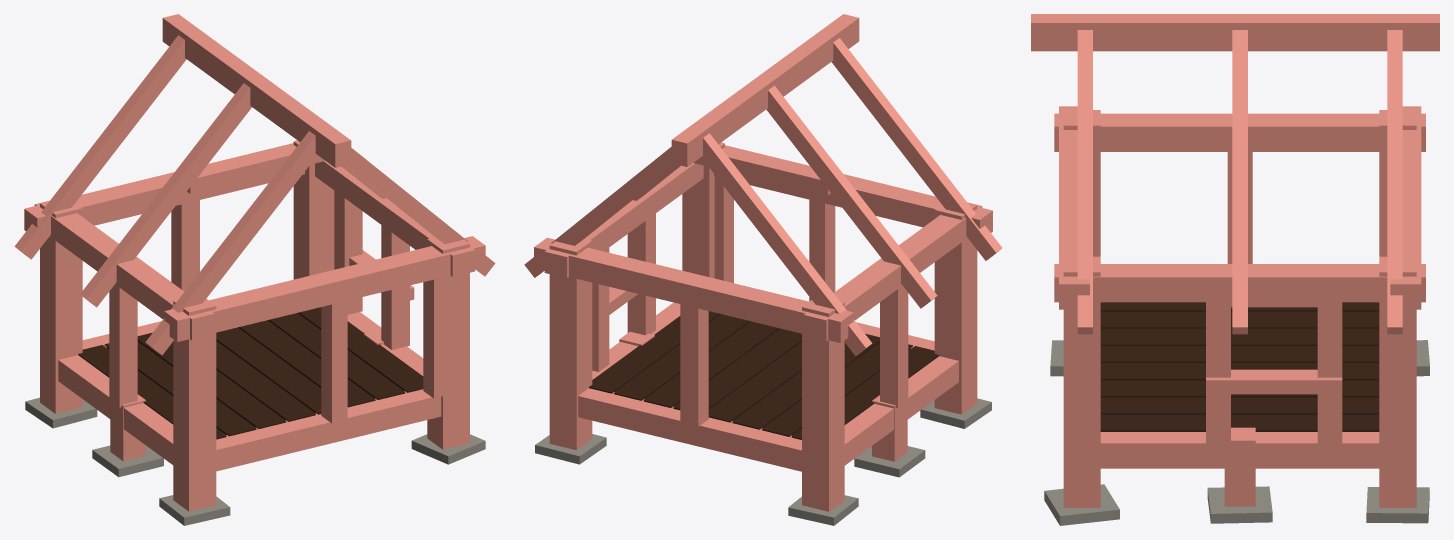
Rendered from frame.glb.
3 views of the same model, side by side, from view 1: azimuth 30°, elevation 25°; view 2: azimuth 150°, elevation 25°; view 3: azimuth 270°, elevation 25° (orthographic). The views are drawn at different scales.
Visible parts, largest first — view 1: timber_frame, stilts_sills, floor, stone_pads; view 2: timber_frame, stilts_sills, floor, stone_pads; view 3: timber_frame, floor, stilts_sills, stone_pads.
Boxes of the visible parts, x1,y1,x2,y2 form: timber_frame: [14, 14, 495, 455]; stilts_sills: [40, 312, 469, 511]; floor: [78, 307, 423, 439]; stone_pads: [25, 397, 485, 525]; timber_frame: [524, 14, 1002, 456]; stilts_sills: [549, 302, 977, 511]; floor: [589, 311, 939, 439]; stone_pads: [535, 398, 991, 525]; timber_frame: [1031, 14, 1439, 444]; floor: [1100, 302, 1379, 431]; stilts_sills: [1063, 427, 1416, 507]; stone_pads: [1044, 340, 1429, 525].
Bounding box in the file's own units: 3.03 × 2.98 × 2.64.
